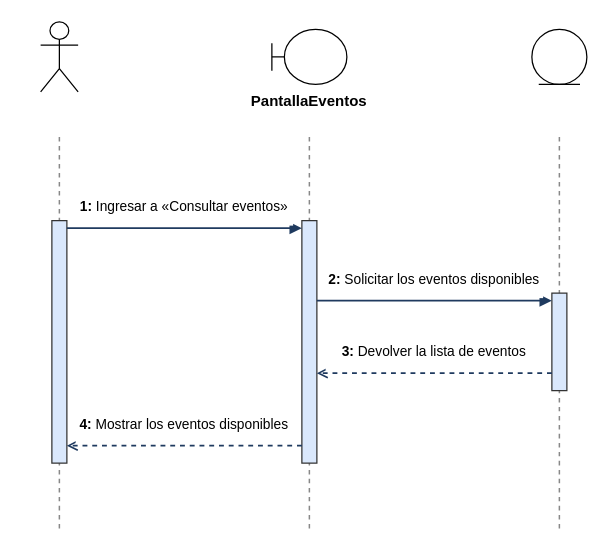
The diagram is 609 pixels wide and 555 high, and some of its shapes have lost their labels. Here are the shapes that lost their labels. From the top down, the centre of each, then its label:
point (58, 56): Estudiante
point (559, 56): Evento
